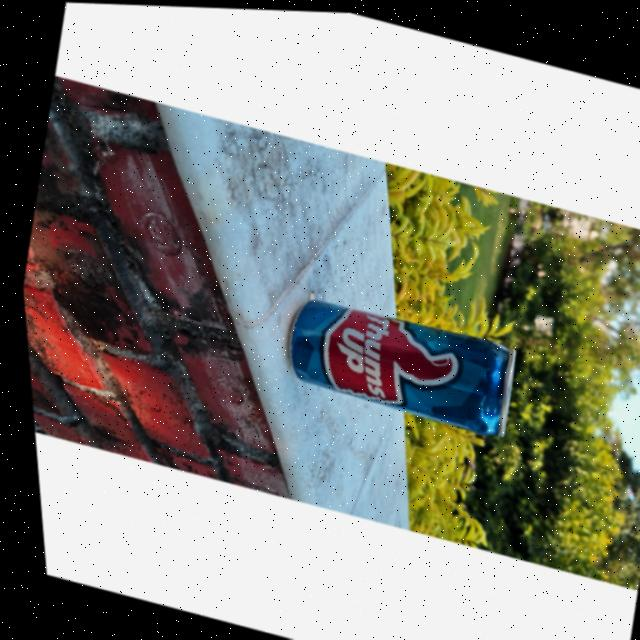Thums Up: (274, 283, 520, 435)
